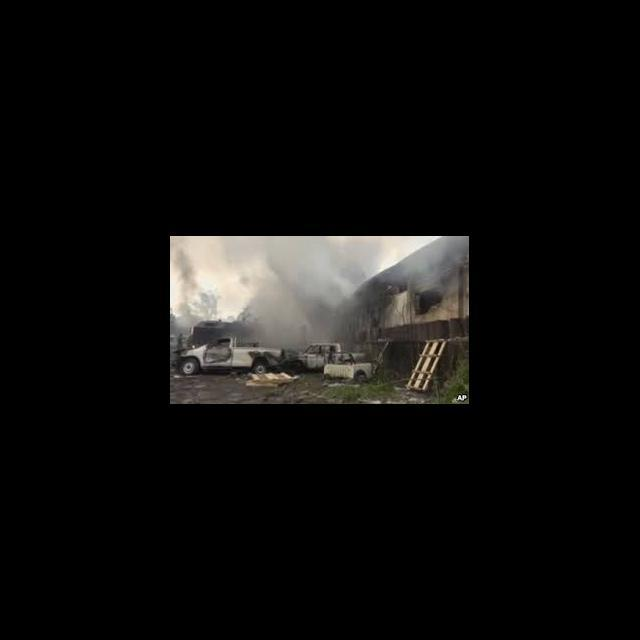Smoke: (176, 236, 374, 335)
